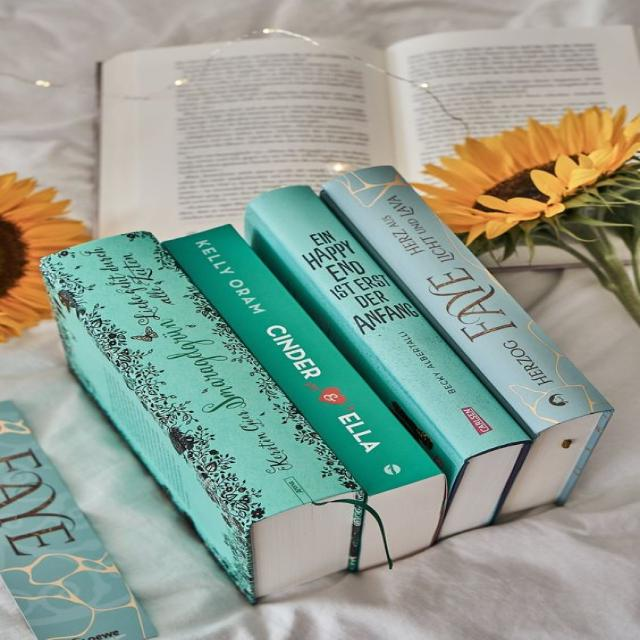book: (43, 230, 362, 528), (244, 186, 528, 485), (326, 166, 612, 436), (163, 225, 439, 495)
